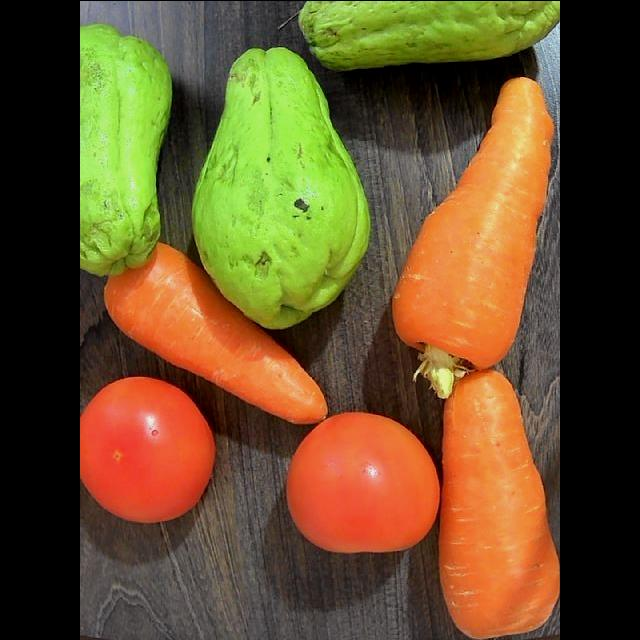chayote: (192, 47, 370, 328), (80, 24, 172, 274), (299, 1, 559, 69)
tomate: (286, 412, 439, 551), (80, 377, 214, 522)
zanahoria: (392, 77, 553, 397), (104, 243, 326, 423), (439, 370, 559, 638)
